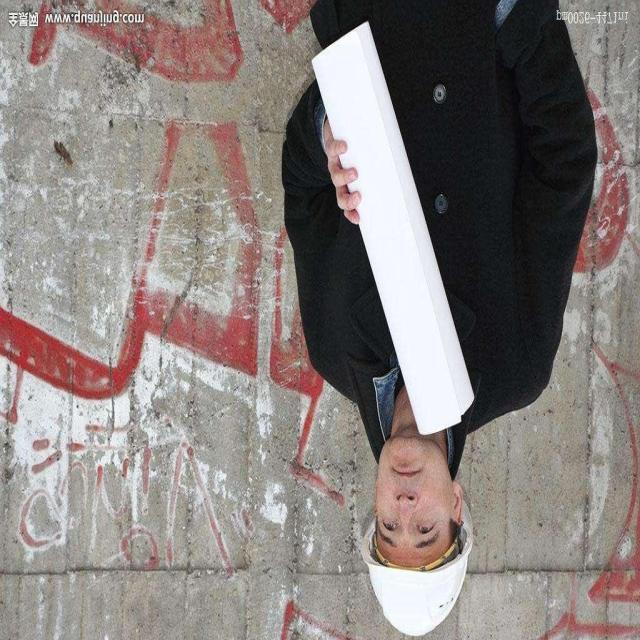helmet: (361, 508, 476, 636)
